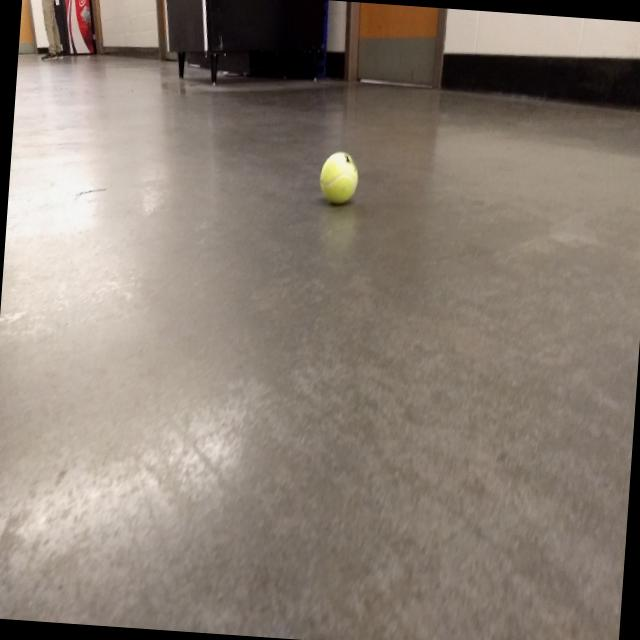Tennis Ball: (317, 150, 358, 206)
